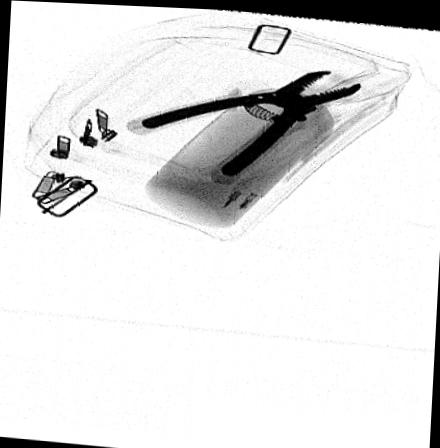Pliers: (141, 68, 362, 178)
